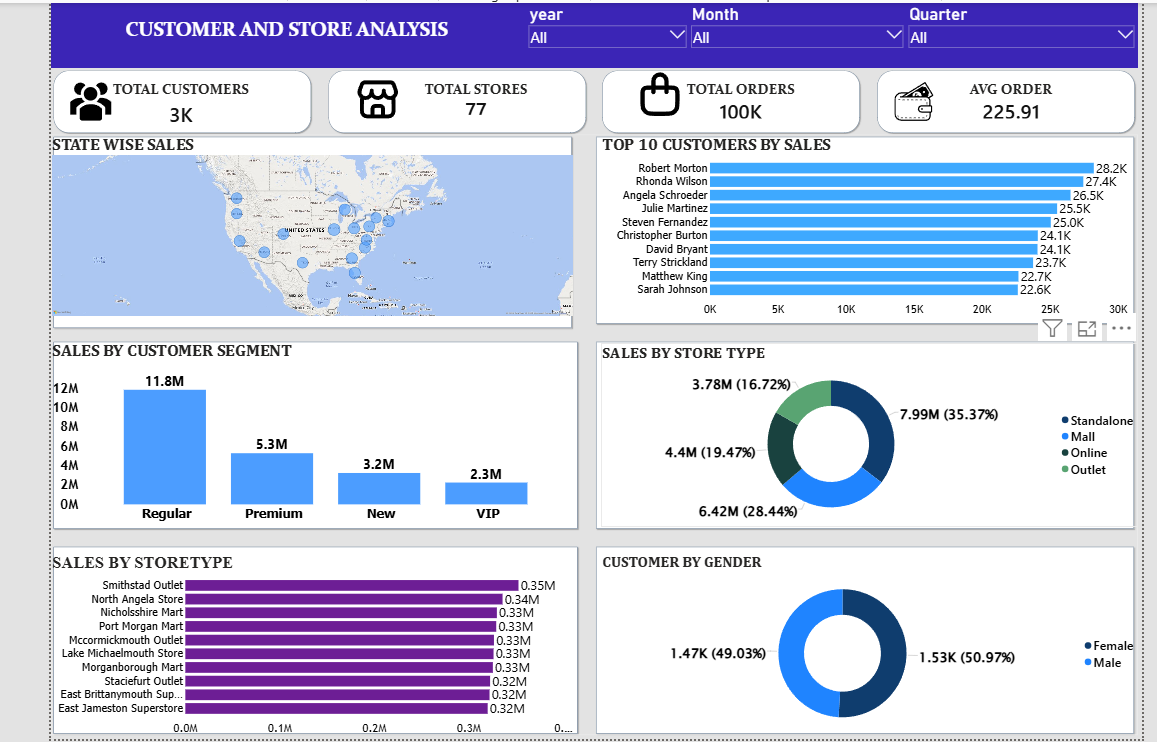

This screenshot's page, from the dashboard's own definition file:
{"tool":"powerbi","page":{"name":"Excutive dashboard","canvas":[3700,2000],"ordinal":11},"visuals":[{"type":"group","id":"g1","title":"Group 4","box":[-12,-16,3712,2000],"z":0},{"type":"group","id":"g2","title":"Group 2","box":[-12,-16,3712,384],"z":0,"group":"g1"},{"type":"group","id":"g3","title":"Group 1","box":[-12,-16,3712,139.6],"z":0,"group":"g2"},{"type":"shape","box":[-12,-16,3712,121.3],"z":0,"group":"g3"},{"type":"shape","box":[-12,368,1219.9,800],"z":0,"group":"g7"},{"type":"textbox","box":[20,18.9,1120,104.7],"z":1000,"group":"g3"},{"type":"shape","box":[-12,125.5,499.7,242.5],"z":1000,"group":"g2"},{"type":"cardVisual","title":"AVG ORDER","fields":{"Data":["dimcustomer.Average Order Value"]},"box":[2836,208,288,128],"z":1000,"group":"g1"},{"type":"group","id":"g4","title":"Group 10","box":[-12,368,3712,1632],"z":1000},{"type":"group","id":"g5","title":"Group 9","box":[-12,368,3712,1632],"z":1000,"group":"g4"},{"type":"group","id":"g6","title":"Group 5","box":[-12,368,3712,800],"z":1000,"group":"g5"},{"type":"shape","box":[1204,368,1216,800],"z":1000,"group":"g7"},{"type":"group","id":"g7","title":"Group 6","box":[-12,368,3712,800],"z":1001,"group":"g6"},{"type":"slicer","fields":{"Values":["dimdate.year"]},"box":[1203.4,16,480,96],"z":2000,"group":"g10"},{"type":"shape","box":[523.4,121.1,499.7,246.9],"z":2000,"group":"g2"},{"type":"image","box":[0,160,224,160],"z":2000},{"type":"cardVisual","title":"TOTALSALES","fields":{"Data":["dimcustomer.total sales"]},"box":[84,208,384,128],"z":2000,"group":"g1"},{"type":"shape","box":[2452,368,1248,800],"z":2000,"group":"g7"},{"type":"lineChart","title":"MONTHLY SALES TREND","fields":{"Y":["Sum(factsales.sales)"],"Series":["dimdate.year"],"Category":["dimdate.date.Variation.Date Hierarchy.Month"]},"box":[0,384,1184,768],"z":2000,"group":"g4"},{"type":"slicer","fields":{"Values":["dimdate.date.Variation.Date Hierarchy.Month"]},"box":[1715.4,16,448,96],"z":3000,"group":"g10"},{"type":"shape","box":[1594.2,121.1,499.7,246.9],"z":3000,"group":"g2"},{"type":"image","box":[576,160,128,160],"z":3000},{"type":"cardVisual","title":"TOTAL PROFIT","fields":{"Data":["dimcustomer.total profit"]},"box":[692,208,288,128],"z":3000,"group":"g1"},{"type":"group","id":"g8","title":"Group 7","box":[0,1168,3700,832],"z":3000,"group":"g5"},{"type":"shape","box":[2440,1168,1260,832],"z":3000,"group":"g9"},{"type":"donutChart","title":"TOTAL SALES BY CATEGORY","fields":{"Y":["Sum(factsales.sales)"],"Category":["dimproductcategory.productcategoryname"]},"box":[20,1200,1152,800],"z":3000,"group":"g4"},{"type":"group","id":"g9","title":"Group 8","box":[0,1168,3700,832],"z":3001,"group":"g8"},{"type":"shape","box":[0,1168,1184,832],"z":3500,"group":"g9"},{"type":"slicer","fields":{"Values":["dimproductcategory.productcategoryname"]},"box":[2163.4,16,576,96],"z":4000,"group":"g10"},{"type":"shape","box":[3215.8,128,484.2,230.4],"z":4000,"group":"g2"},{"type":"image","box":[1056,192,160,128],"z":4000},{"type":"cardVisual","title":"TOTAL ORDERS","fields":{"Data":["dimcustomer.Total Orders"]},"box":[1204,208,320,128],"z":4000,"group":"g1"},{"type":"map","title":"STATE WISE SALES","fields":{"Category":["dimstore.state"],"Size":["Sum(factsales.sales)"]},"box":[1216,384,1216,768],"z":4000,"group":"g4"},{"type":"shape","box":[1208,1168,1204,832],"z":4000,"group":"g9"},{"type":"slicer","fields":{"Values":["dimstore.state"]},"box":[2739.4,16,416,96],"z":5000,"group":"g10"},{"type":"shape","box":[2129.5,121.1,499.7,246.9],"z":5000,"group":"g2"},{"type":"image","box":[1568,192,224,128],"z":5000},{"type":"cardVisual","title":"TOTAL QUANTITY","fields":{"Data":["dimcustomer.Total Quantity"]},"box":[1780,208,288,128],"z":5000,"group":"g1"},{"type":"clusteredColumnChart","title":"TOP 10 PRODUCTS BY SALES","fields":{"Category":["dimproduct.productname"],"Y":["Sum(factsales.sales)"]},"box":[2464,384,1216,768],"z":5000,"group":"g4"},{"type":"slicer","fields":{"Values":["dimstore.storename"]},"box":[3155.4,16,512,96],"z":6000,"group":"g10"},{"type":"shape","box":[2664.9,121.1,499.7,246.9],"z":6000,"group":"g2"},{"type":"image","box":[2144,160,128,160],"z":6000},{"type":"cardVisual","title":"TOTAL CUSTOMER","fields":{"Data":["dimcustomer.Total Customers"]},"box":[2260,208,320,128],"z":6000,"group":"g1"},{"type":"clusteredBarChart","title":"TOP 10 STORES BY SALE","fields":{"Y":["Sum(factsales.sales)"],"Category":["dimstore.storename"]},"box":[1216,1184,1184,800],"z":6000,"group":"g4"},{"type":"shape","box":[1058.8,121.1,499.7,246.9],"z":7000,"group":"g2"},{"type":"image","box":[2688,160,128,192],"z":7000},{"type":"cardVisual","title":"PROFIT MARGIN","fields":{"Data":["dimcustomer.Profit Margin %"]},"box":[3380,208,288,128],"z":7000,"group":"g1"},{"type":"donutChart","fields":{"Category":["factsales.paymentmethod"],"Y":["Sum(factsales.sales)"]},"box":[2432,1184,1248,768],"z":7000,"group":"g4"},{"type":"group","id":"g10","title":"Group 3","box":[1203.4,16,2464,96],"z":7001,"group":"g3"},{"type":"image","box":[3232,224,192,96],"z":8000},{"type":"image","box":[0,1626,1184,358],"z":8000,"group":"g1"}]}

Visuals, with their boxes on the page's 3700x2000 design canvas (x1, y1, x2, y2). These are canvas units, not pixel positions in the 1157x742 screenshot, which may show the page scaled, cropped or inside an application window:
"Group 4" group: [left=-12, top=-16, right=3700, bottom=1984]
"Group 2" group: [left=-12, top=-16, right=3700, bottom=368]
"Group 1" group: [left=-12, top=-16, right=3700, bottom=124]
shape: [left=-12, top=-16, right=3700, bottom=105]
shape: [left=-12, top=368, right=1208, bottom=1168]
textbox: [left=20, top=19, right=1140, bottom=124]
shape: [left=-12, top=126, right=488, bottom=368]
"AVG ORDER" cardVisual: [left=2836, top=208, right=3124, bottom=336]
"Group 10" group: [left=-12, top=368, right=3700, bottom=2000]
"Group 9" group: [left=-12, top=368, right=3700, bottom=2000]
"Group 5" group: [left=-12, top=368, right=3700, bottom=1168]
shape: [left=1204, top=368, right=2420, bottom=1168]
"Group 6" group: [left=-12, top=368, right=3700, bottom=1168]
slicer - dimdate.year: [left=1203, top=16, right=1683, bottom=112]
shape: [left=523, top=121, right=1023, bottom=368]
image: [left=0, top=160, right=224, bottom=320]
"TOTALSALES" cardVisual: [left=84, top=208, right=468, bottom=336]
shape: [left=2452, top=368, right=3700, bottom=1168]
"MONTHLY SALES TREND" lineChart: [left=0, top=384, right=1184, bottom=1152]
slicer - dimdate.date.Variation.Date Hierarchy.Month: [left=1715, top=16, right=2163, bottom=112]
shape: [left=1594, top=121, right=2094, bottom=368]
image: [left=576, top=160, right=704, bottom=320]
"TOTAL PROFIT" cardVisual: [left=692, top=208, right=980, bottom=336]
"Group 7" group: [left=0, top=1168, right=3700, bottom=2000]
shape: [left=2440, top=1168, right=3700, bottom=2000]
"TOTAL SALES BY CATEGORY" donutChart: [left=20, top=1200, right=1172, bottom=2000]
"Group 8" group: [left=0, top=1168, right=3700, bottom=2000]
shape: [left=0, top=1168, right=1184, bottom=2000]
slicer - dimproductcategory.productcategoryname: [left=2163, top=16, right=2739, bottom=112]
shape: [left=3216, top=128, right=3700, bottom=358]
image: [left=1056, top=192, right=1216, bottom=320]
"TOTAL ORDERS" cardVisual: [left=1204, top=208, right=1524, bottom=336]
"STATE WISE SALES" map: [left=1216, top=384, right=2432, bottom=1152]
shape: [left=1208, top=1168, right=2412, bottom=2000]
slicer - dimstore.state: [left=2739, top=16, right=3155, bottom=112]
shape: [left=2130, top=121, right=2629, bottom=368]
image: [left=1568, top=192, right=1792, bottom=320]
"TOTAL QUANTITY" cardVisual: [left=1780, top=208, right=2068, bottom=336]
"TOP 10 PRODUCTS BY SALES" clusteredColumnChart: [left=2464, top=384, right=3680, bottom=1152]
slicer - dimstore.storename: [left=3155, top=16, right=3667, bottom=112]
shape: [left=2665, top=121, right=3165, bottom=368]
image: [left=2144, top=160, right=2272, bottom=320]
"TOTAL CUSTOMER" cardVisual: [left=2260, top=208, right=2580, bottom=336]
"TOP 10 STORES BY SALE" clusteredBarChart: [left=1216, top=1184, right=2400, bottom=1984]
shape: [left=1059, top=121, right=1558, bottom=368]
image: [left=2688, top=160, right=2816, bottom=352]
"PROFIT MARGIN" cardVisual: [left=3380, top=208, right=3668, bottom=336]
donutChart - factsales.paymentmethod x Sum(factsales.sales): [left=2432, top=1184, right=3680, bottom=1952]
"Group 3" group: [left=1203, top=16, right=3667, bottom=112]
image: [left=3232, top=224, right=3424, bottom=320]
image: [left=0, top=1626, right=1184, bottom=1984]
